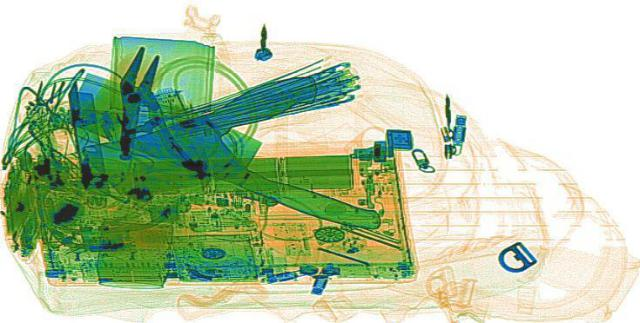Knife: (24, 69, 418, 240), (55, 72, 377, 203)
